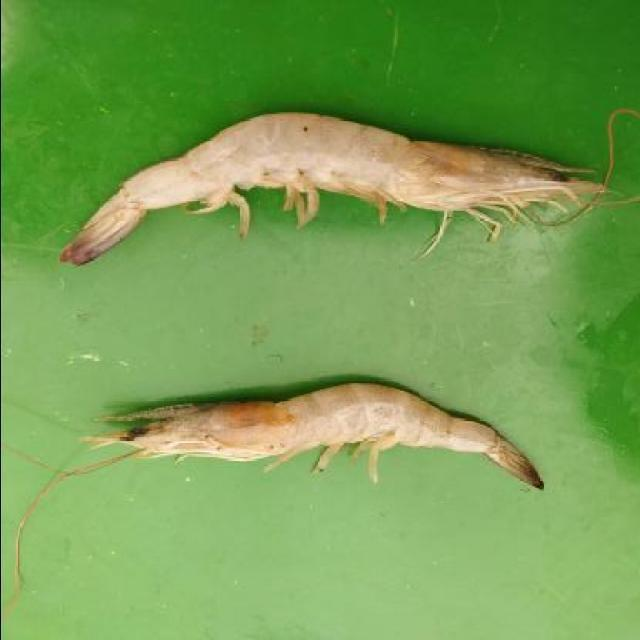shrimp: (47, 108, 628, 275), (79, 375, 562, 505)
